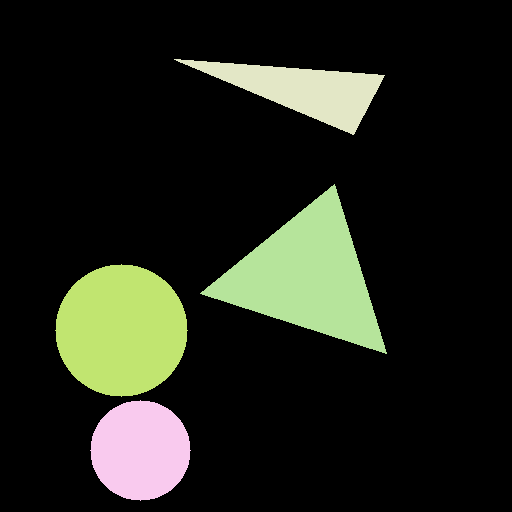circle: (55, 264, 187, 396), (90, 400, 190, 500)
triangle: (200, 184, 386, 353), (174, 59, 384, 134)
